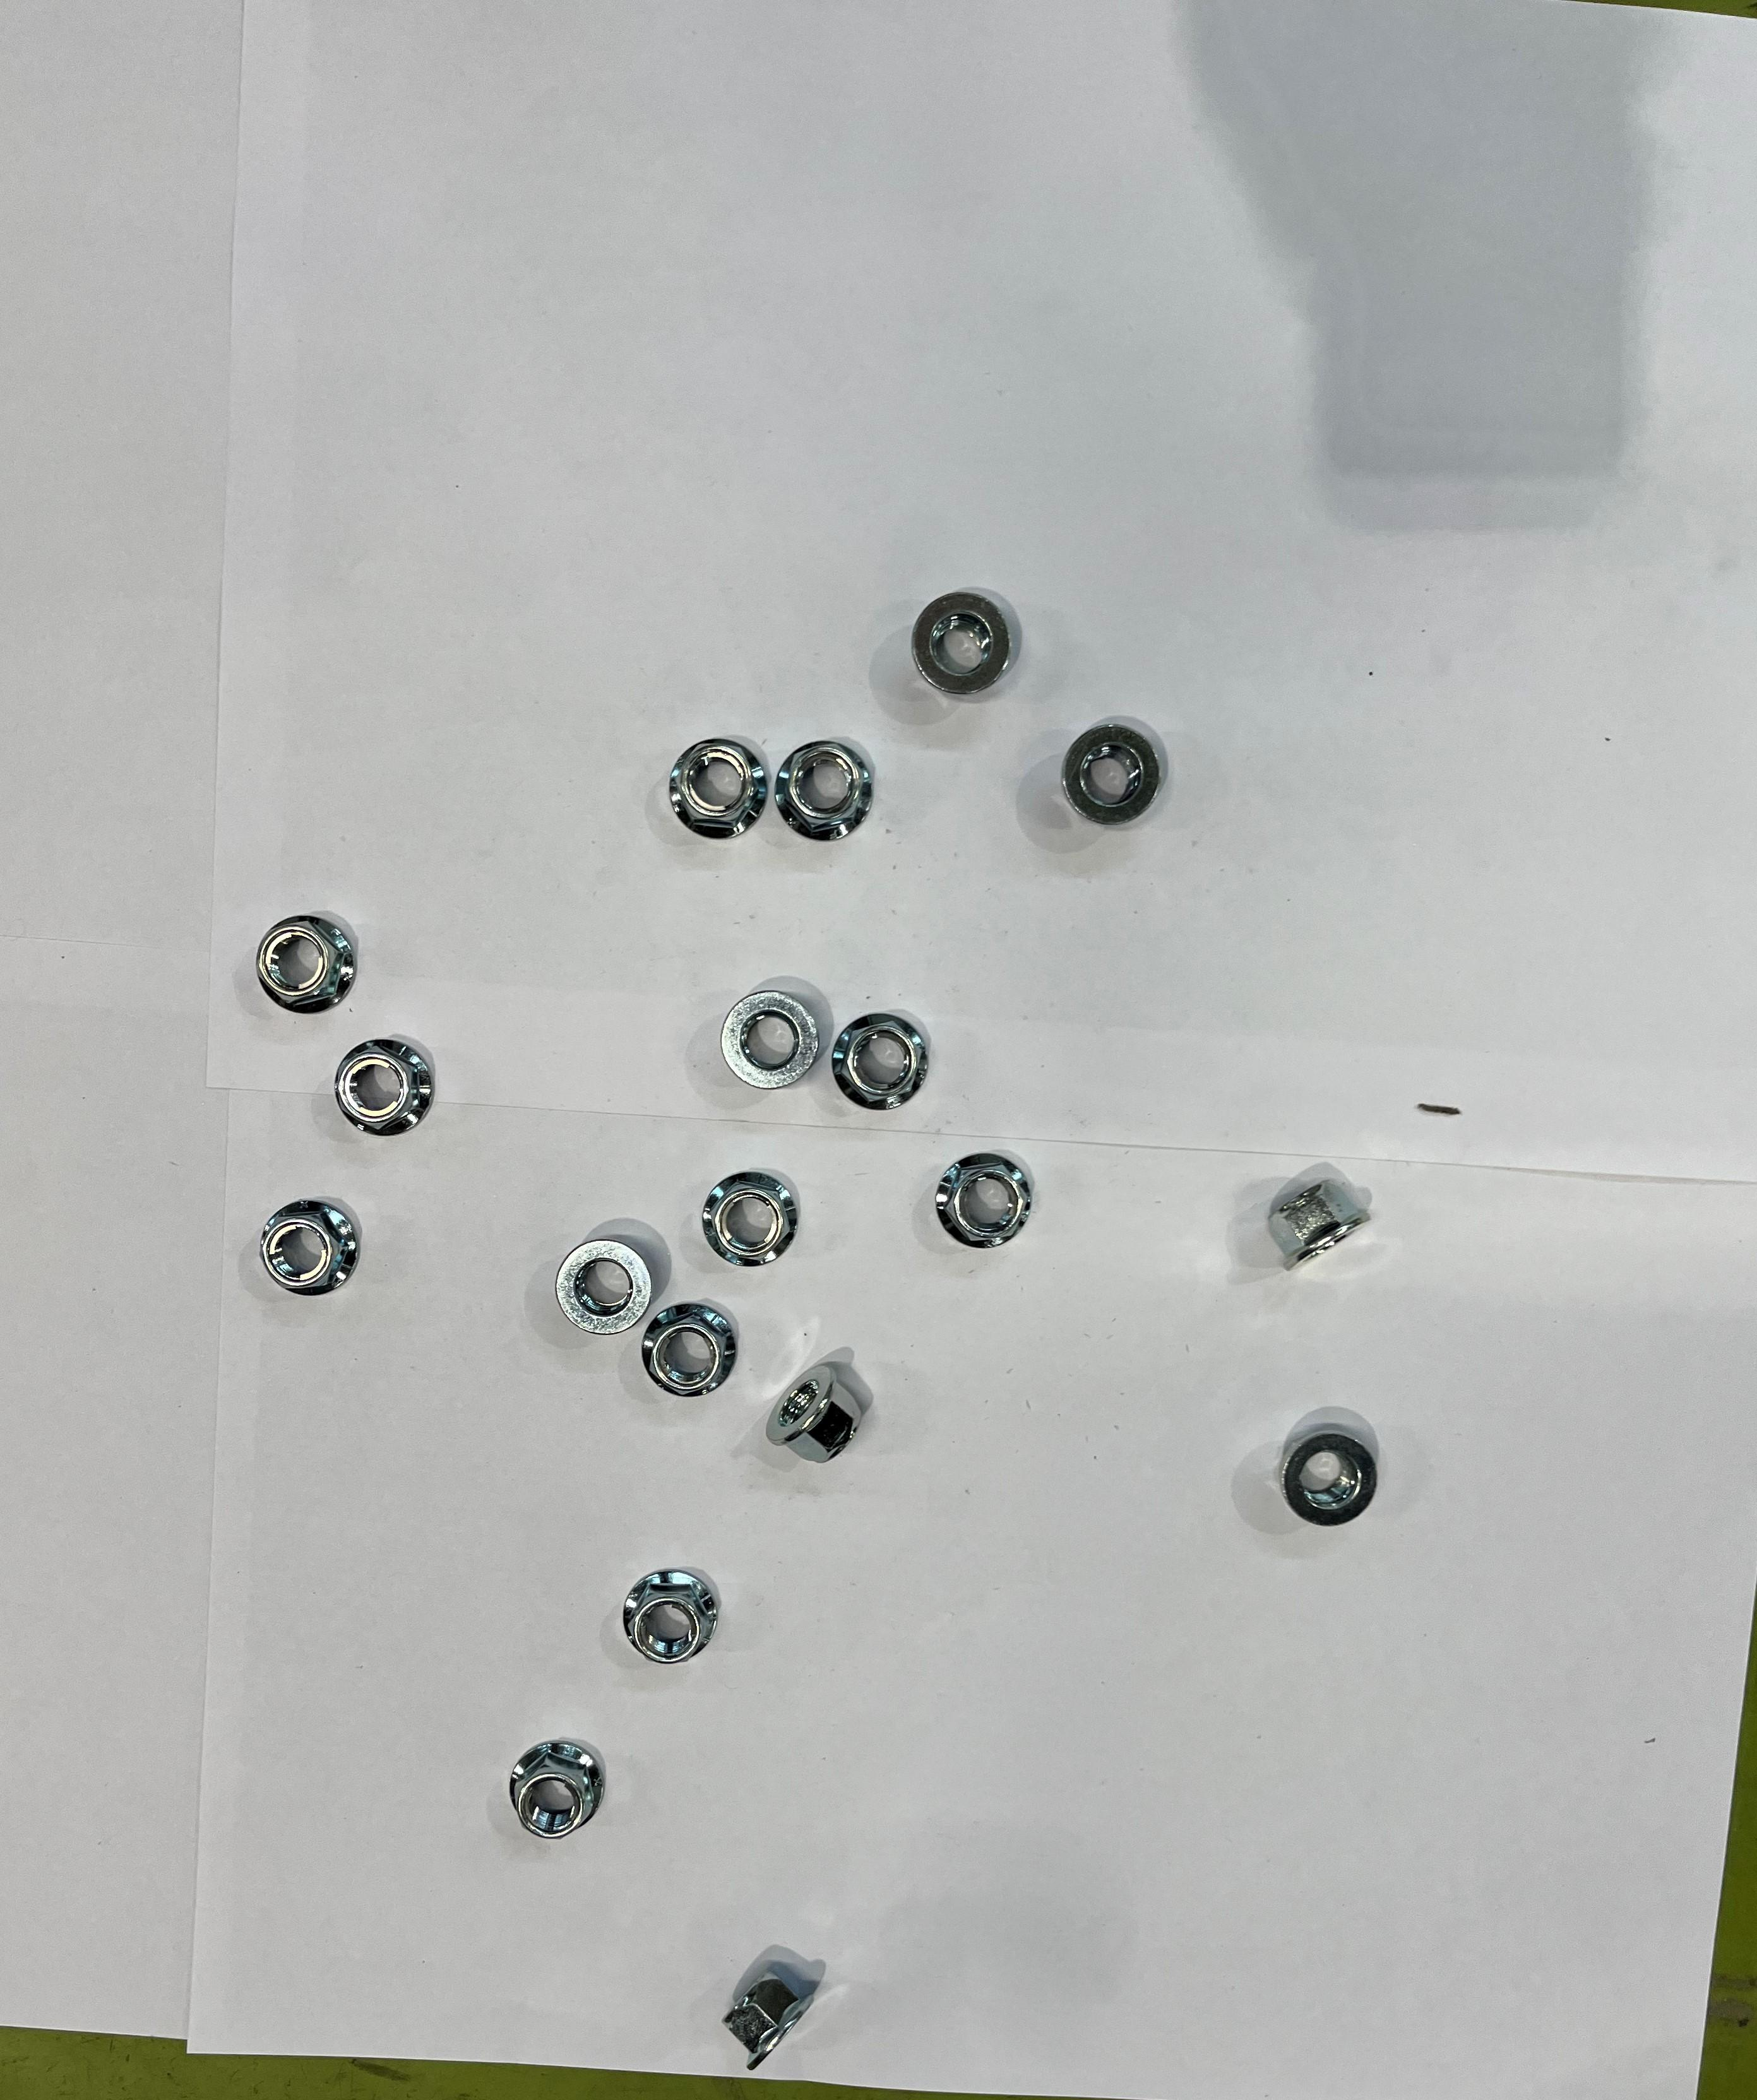Type B: (1063, 717, 1169, 832), (913, 593, 1012, 701), (253, 914, 358, 1015), (256, 1198, 363, 1298), (330, 1040, 434, 1139), (764, 1357, 864, 1462), (1272, 1172, 1371, 1275), (670, 738, 768, 841), (553, 1237, 651, 1338), (1282, 1430, 1380, 1531), (724, 987, 820, 1090), (778, 743, 876, 841), (509, 1739, 604, 1840), (640, 1299, 735, 1401), (939, 1153, 1035, 1251), (701, 1172, 799, 1268), (621, 1568, 719, 1662), (728, 1978, 822, 2072), (834, 1017, 930, 1109)
